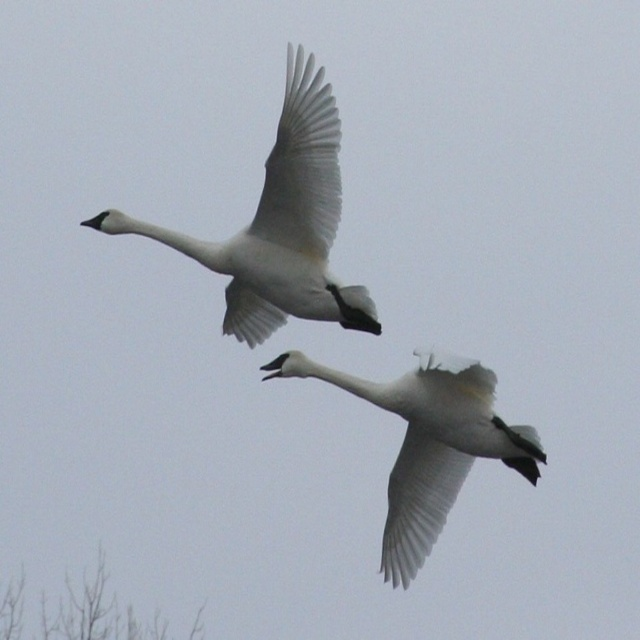Swan: (79, 42, 382, 349), (260, 344, 547, 589)
